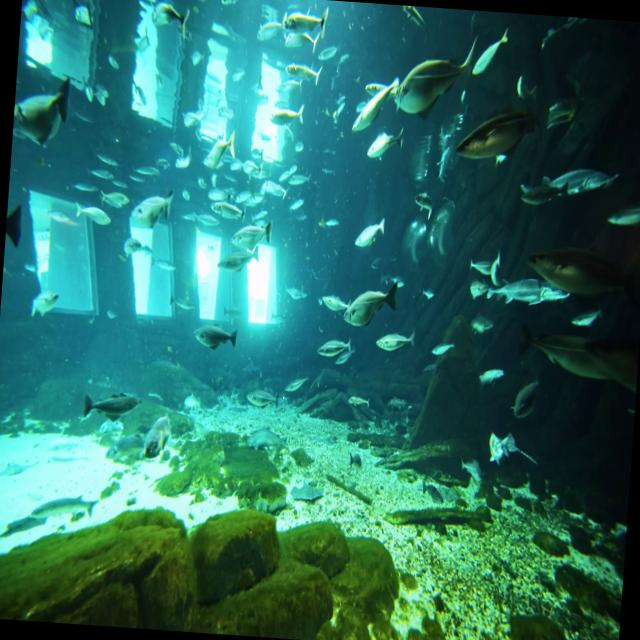fish: (392, 28, 484, 128), (11, 59, 78, 161), (473, 264, 574, 312), (341, 268, 404, 336)
